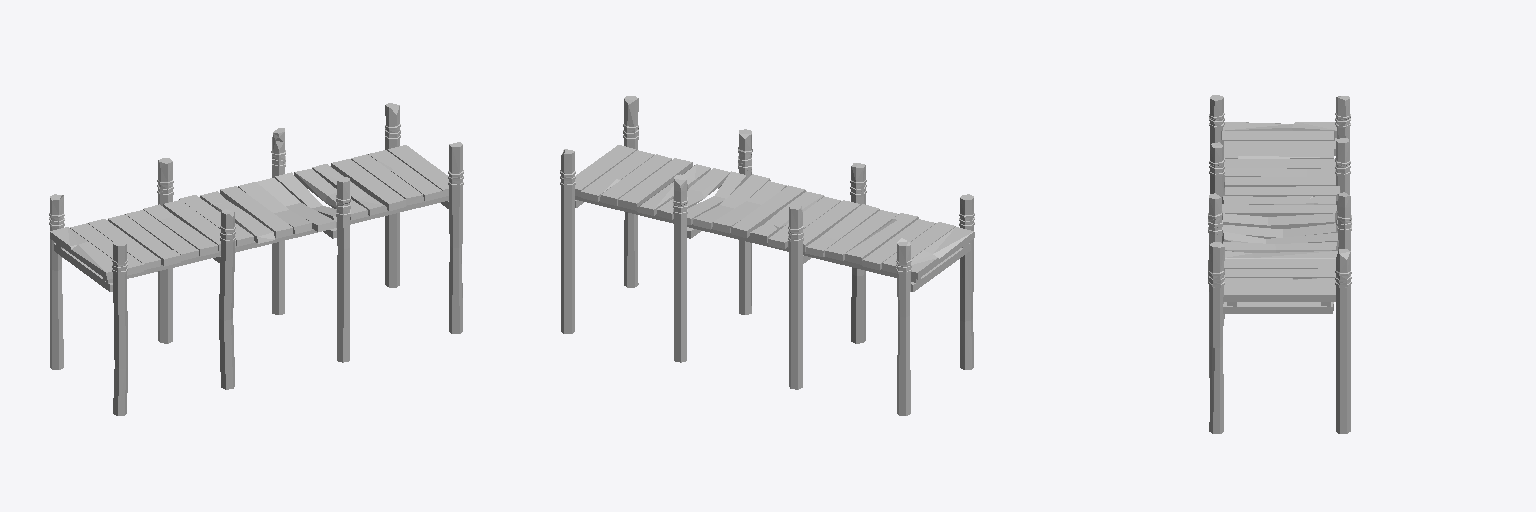
The model's file is Footbridge.obj.
The picture shows the model from 3 angles: view 1: azimuth 30°, elevation 25°; view 2: azimuth 150°, elevation 25°; view 3: azimuth 270°, elevation 25°; orthographic projection.
Parts seen in each view (by area): view 1: Footbridge; view 2: Footbridge; view 3: Footbridge.
Part boxes in pixels (bbox=[...]): Footbridge: bbox=[49, 103, 463, 415]; Footbridge: bbox=[560, 96, 974, 415]; Footbridge: bbox=[1208, 95, 1351, 433].
Bounding box in the file's own units: 9 × 4.51 × 3.15.